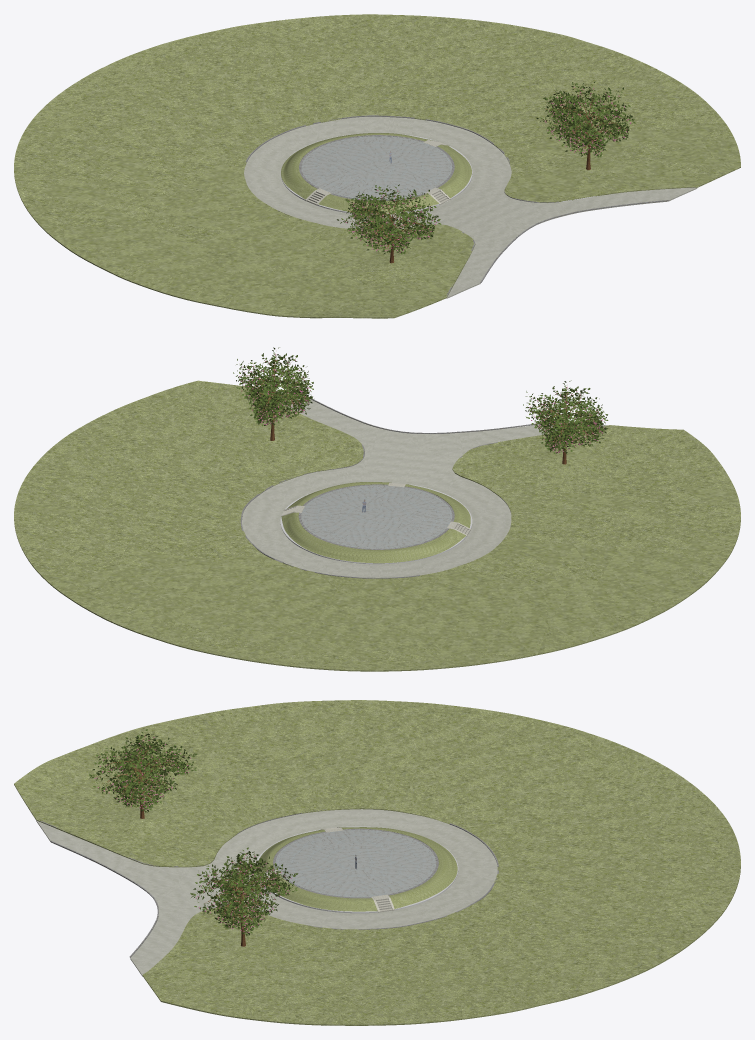
Rendered from 88JandiMadang.glb.
The picture shows the model from 3 angles, top to bottom: view 1: azimuth 30°, elevation 25°; view 2: azimuth 150°, elevation 25°; view 3: azimuth 270°, elevation 25°; orthographic projection. The views are drawn at different scales.
Parts seen in each view (by area): view 1: 3DGeom-3986, 3DGeom-10, 3DGeom-12, 3DGeom-7994, 3DGeom-7993, 3DGeom-4015, 3DGeom-3990, 3DGeom-4020; view 2: 3DGeom-3986, 3DGeom-10, 3DGeom-12, 3DGeom-7994, 3DGeom-7993, 3DGeom-4015, 3DGeom-3990; view 3: 3DGeom-3986, 3DGeom-10, 3DGeom-12, 3DGeom-7994, 3DGeom-7993, 3DGeom-4015, 3DGeom-4020, 3DGeom-3990.
Part boxes in pixels (box(x1,y1,x2,y2)): 3DGeom-3986: box(14, 14, 740, 318); 3DGeom-10: box(244, 116, 697, 298); 3DGeom-12: box(301, 136, 452, 200); 3DGeom-7994: box(536, 81, 635, 157); 3DGeom-7993: box(337, 184, 441, 254); 3DGeom-4015: box(281, 133, 432, 199); 3DGeom-3990: box(318, 194, 438, 213); 3DGeom-4020: box(437, 144, 471, 198); 3DGeom-3986: box(14, 380, 740, 671); 3DGeom-10: box(242, 390, 606, 577); 3DGeom-12: box(301, 485, 452, 548); 3DGeom-7994: box(233, 347, 313, 426); 3DGeom-7993: box(523, 380, 608, 454); 3DGeom-4015: box(281, 512, 465, 563); 3DGeom-3990: box(405, 484, 470, 527); 3DGeom-3986: box(14, 700, 740, 1025); 3DGeom-10: box(36, 809, 497, 976); 3DGeom-12: box(275, 829, 436, 897); 3DGeom-7994: box(190, 847, 297, 935); 3DGeom-7993: box(89, 729, 197, 812); 3DGeom-4015: box(339, 827, 457, 908); 3DGeom-4020: box(266, 876, 377, 911); 3DGeom-3990: box(257, 829, 325, 875).
Bounding box in the file's own units: 88 × 11.64 × 83.07.
Materials: 17 (7 with a texture image).
